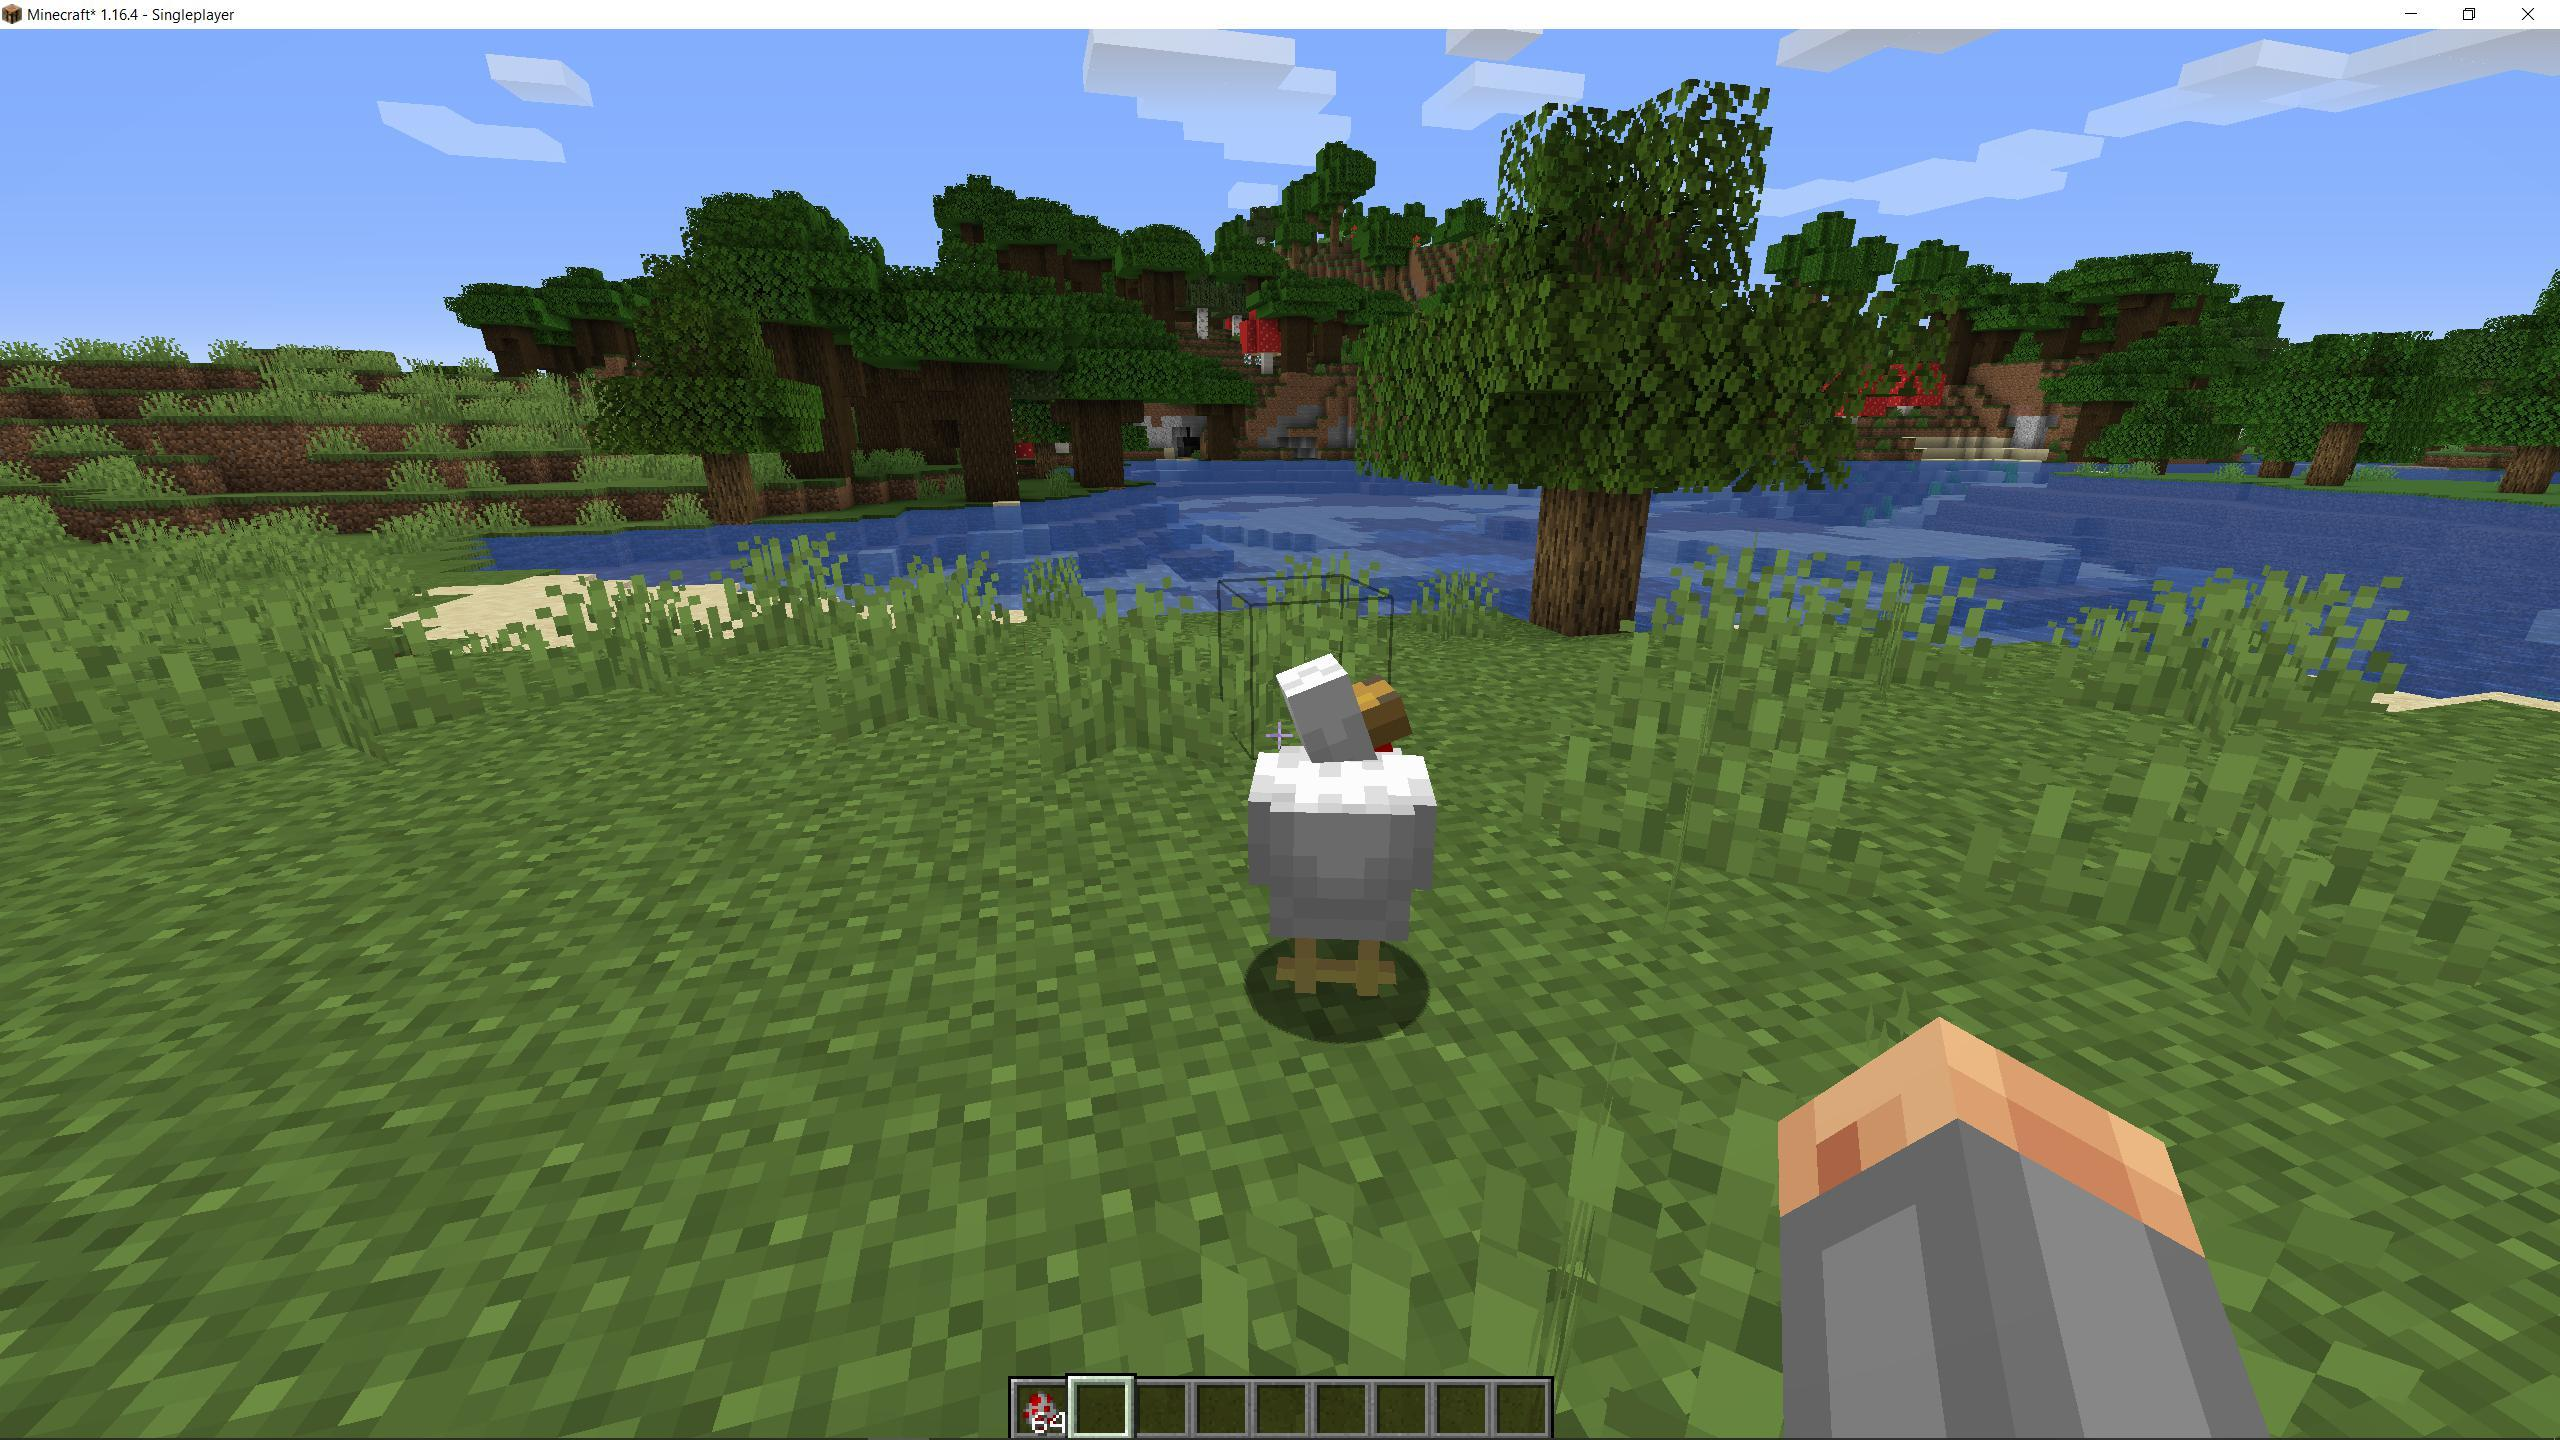chicken: (1240, 649, 1438, 1015)
